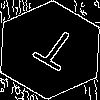T: (25, 25, 82, 80)
